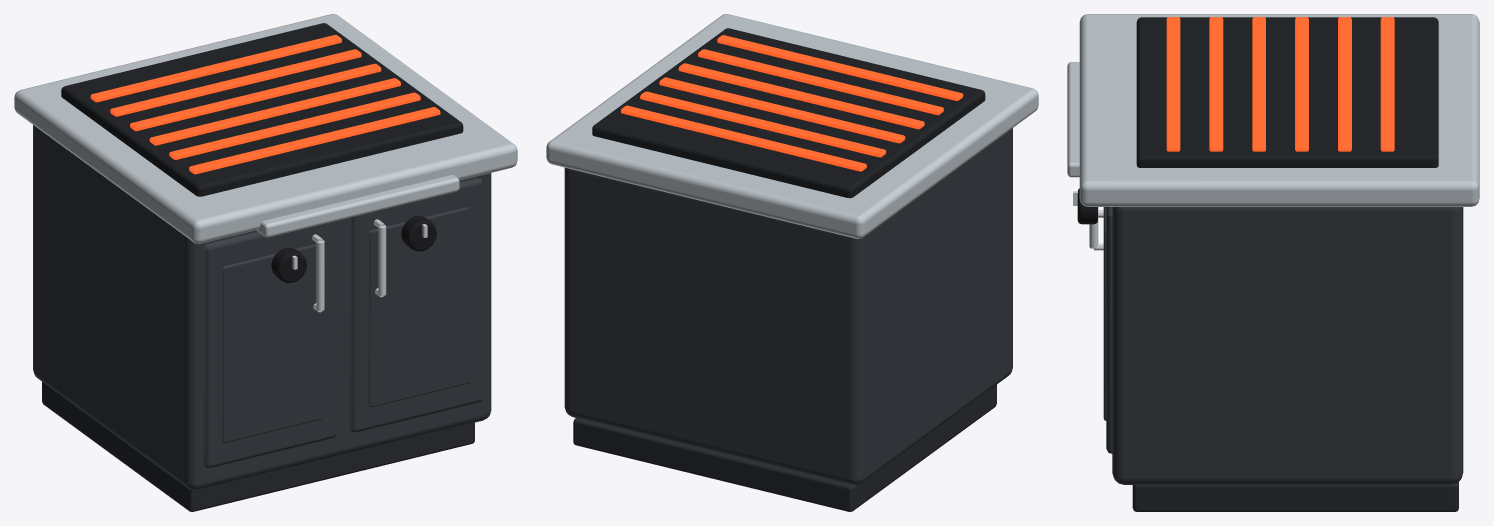
Rendered from station-grill.glb.
3 renders of one model, left to right at view 1: azimuth 30°, elevation 25°; view 2: azimuth 150°, elevation 25°; view 3: azimuth 270°, elevation 25°, orthographic. The views are drawn at different scales.
Visible parts, largest first — view 1: Grill; view 2: Grill; view 3: Grill.
Part boxes in pixels (<box>): Grill: <box>14,14,517,511</box>; Grill: <box>546,14,1038,511</box>; Grill: <box>1067,14,1479,511</box>.
Bounding box in the file's own units: 1 × 0.963 × 1.01.
